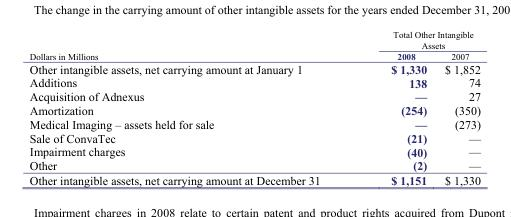table: (28, 29, 480, 186)
table column: (28, 29, 355, 186), (355, 29, 435, 186), (435, 29, 480, 186)
table column header: (28, 29, 480, 61)
table row: (28, 29, 480, 50), (28, 61, 480, 75), (28, 75, 480, 89), (28, 89, 480, 103), (28, 116, 480, 130), (28, 130, 480, 144), (28, 144, 480, 158), (28, 158, 480, 172), (28, 172, 480, 186), (28, 103, 480, 116), (28, 50, 480, 61)
table spanning cell: (28, 29, 355, 61), (355, 29, 480, 50)
